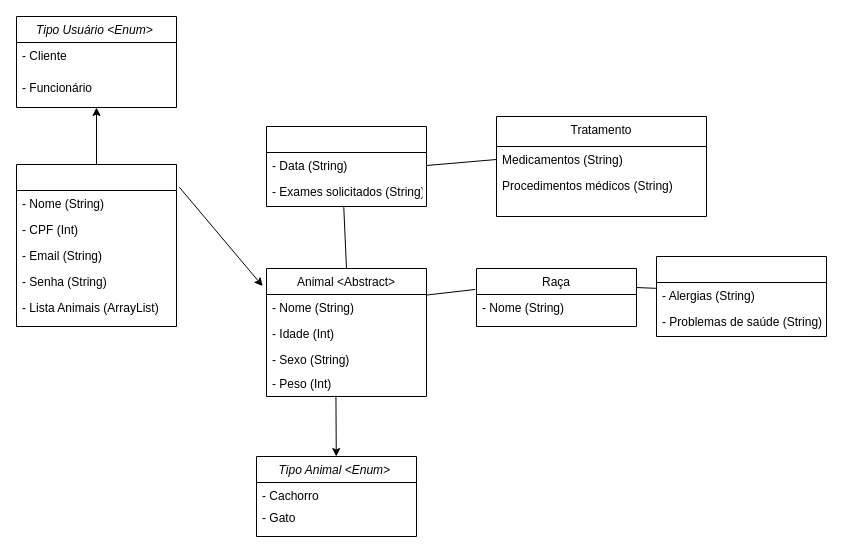
The diagram is 843 pixels wide and 553 high, and some of its shapes have lost their labels. The box of each missing label's shape, as (x1, y1, x2, y2) in pixels:
Condições especiais: (656, 256, 826, 336)
Consulta: (266, 126, 426, 206)
Usuario: (16, 164, 176, 326)
